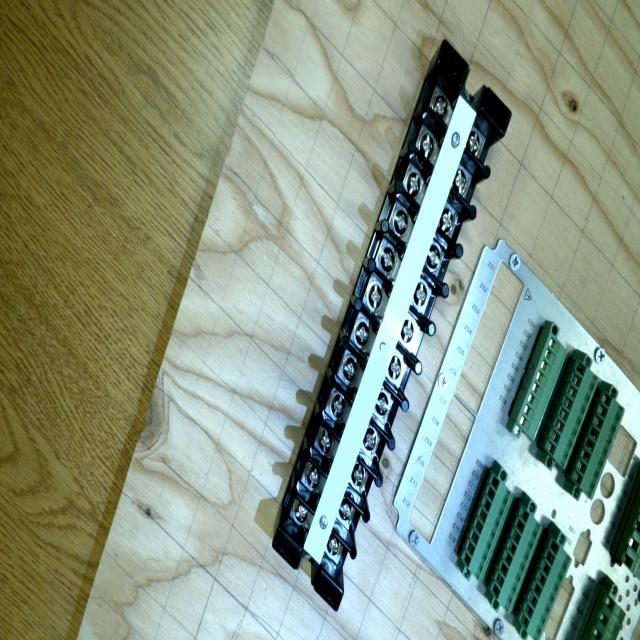Phillips_Block: (259, 40, 526, 613)
Terminal_2: (482, 504, 549, 616), (565, 390, 630, 501), (538, 359, 603, 470), (455, 472, 519, 584)
